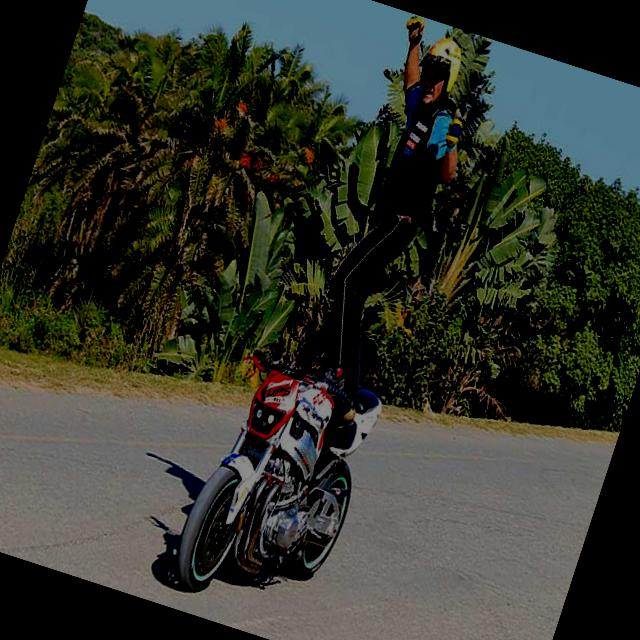Vehicle: (166, 337, 391, 633)
